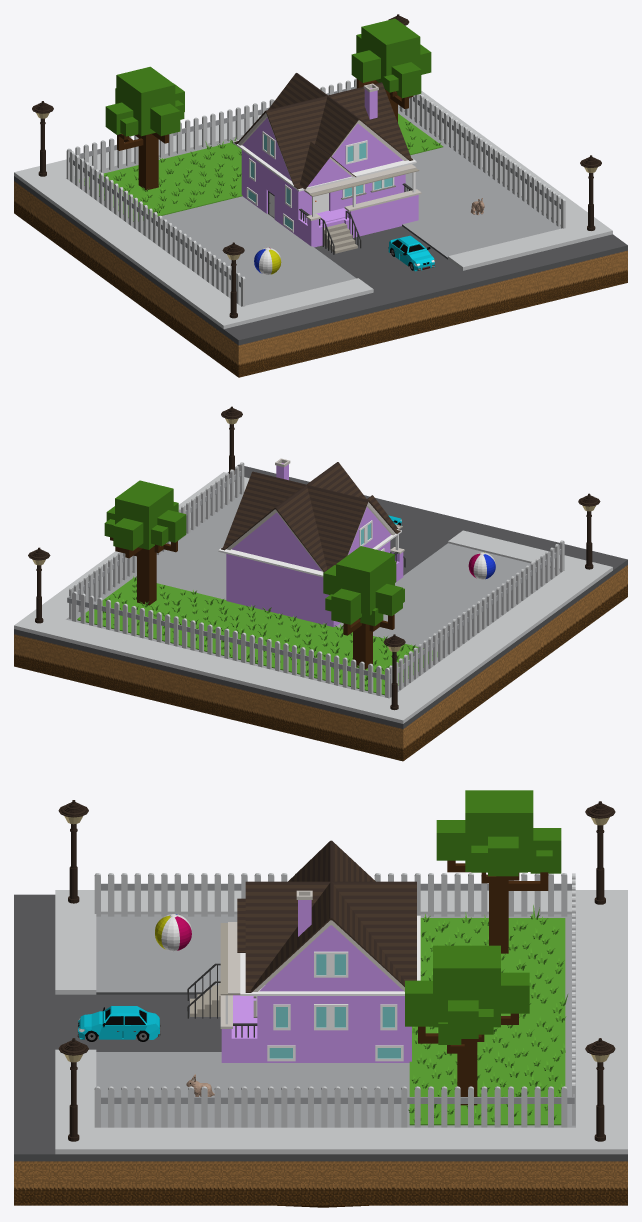
3 views of the same model, one above another, from view 1: azimuth 30°, elevation 25°; view 2: azimuth 150°, elevation 25°; view 3: azimuth 270°, elevation 25° (orthographic). The views are drawn at different scales.
Parts seen in each view (by area): view 1: Cube.004, Cube.391, VEHICLES_CAR, OBJRANDOM_BEACHBALL; view 2: Cube.004, Cube.391, OBJRANDOM_BEACHBALL; view 3: Cube.004, Cube.391, VEHICLES_CAR, OBJRANDOM_BEACHBALL.
Part boxes in pixels (x1,y1,x2,y2): Cube.004: (14, 14, 627, 377); Cube.391: (233, 73, 421, 254); VEHICLES_CAR: (388, 235, 434, 271); OBJRANDOM_BEACHBALL: (254, 247, 281, 274); Cube.004: (14, 406, 627, 761); Cube.391: (218, 458, 405, 626); OBJRANDOM_BEACHBALL: (468, 552, 495, 579); Cube.004: (14, 790, 627, 1205); Cube.391: (187, 840, 420, 1062); VEHICLES_CAR: (77, 1006, 160, 1041); OBJRANDOM_BEACHBALL: (155, 914, 191, 951).
Bounding box in the file's own units: 4000 × 1667 × 4000.
Materials: 41 (3 with a texture image).
